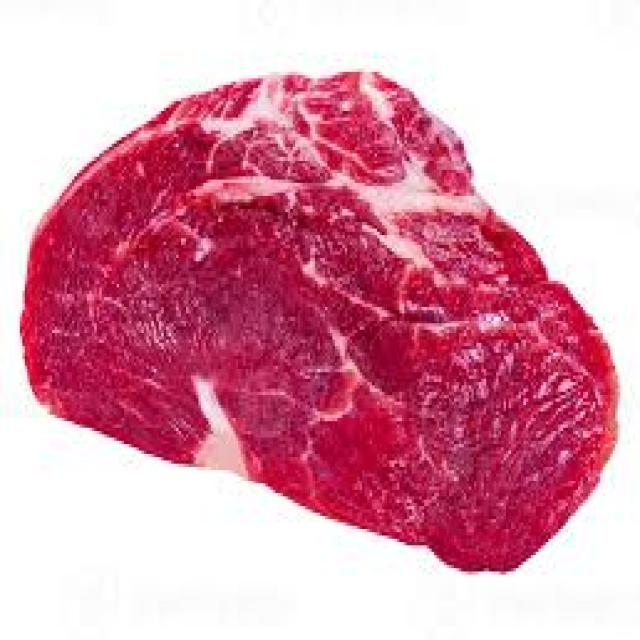Beef: (16, 74, 595, 586)
